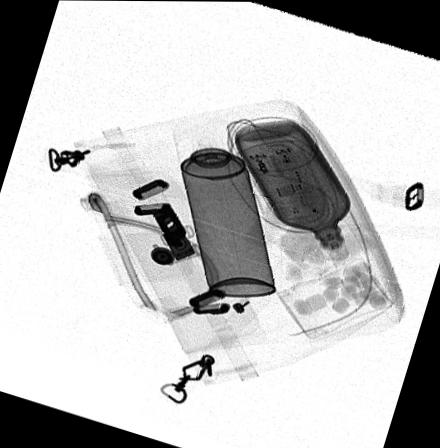Sprayer: (172, 129, 275, 298)
